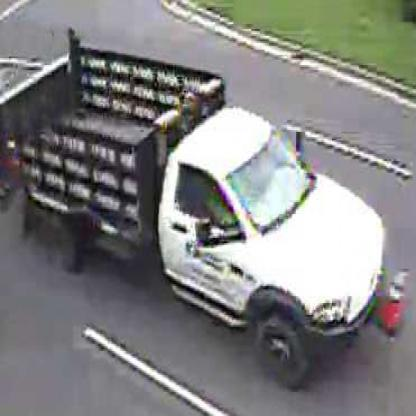truck: (24, 46, 388, 366)
